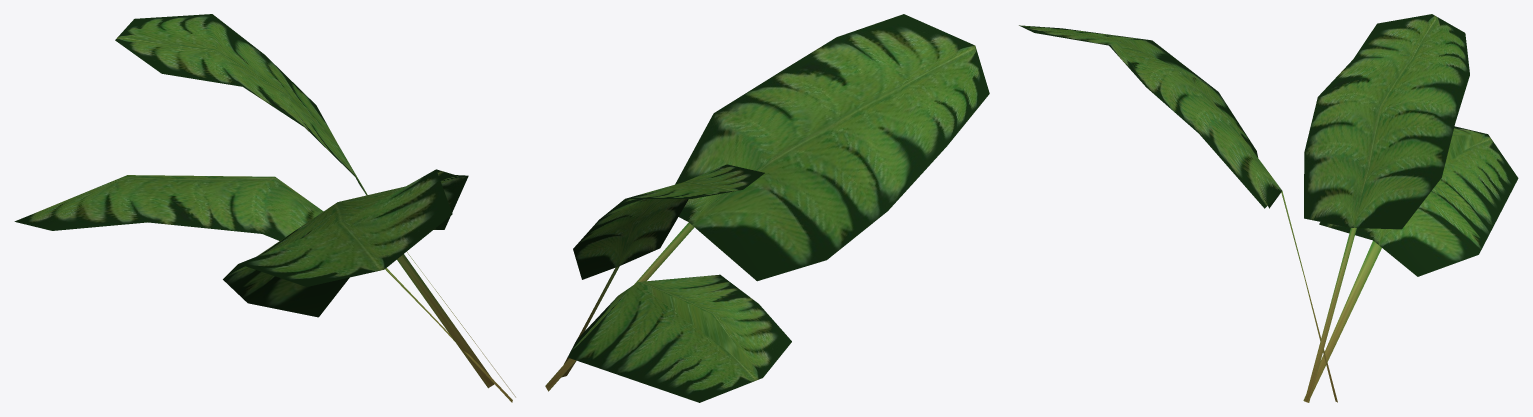
The model's file is bush_leaves.fbx.
The picture shows the model from 3 angles, left to right: view 1: azimuth 30°, elevation 25°; view 2: azimuth 150°, elevation 25°; view 3: azimuth 270°, elevation 25°; orthographic projection. The views are drawn at different scales.
Parts seen in each view (by area): view 1: Leaf_H_01, Leaf_H_04, Leaf_H_02; view 2: Leaf_H_01, Leaf_H_04, Leaf_H_02; view 3: Leaf_H_02, Leaf_H_04, Leaf_H_01.
Boxes of the visible parts, x1=… form: Leaf_H_01: x1=223, y1=169, x2=494, y2=388; Leaf_H_04: x1=14, y1=175, x2=512, y2=402; Leaf_H_02: x1=115, y1=14, x2=515, y2=397; Leaf_H_01: x1=545, y1=14, x2=989, y2=391; Leaf_H_04: x1=561, y1=274, x2=791, y2=402; Leaf_H_02: x1=564, y1=164, x2=764, y2=363; Leaf_H_02: x1=1304, y1=14, x2=1469, y2=402; Leaf_H_04: x1=1303, y1=126, x2=1518, y2=400; Leaf_H_01: x1=1019, y1=25, x2=1337, y2=402.
Size of the model in its own units: 1005 by 961 by 1539.
Materials: 2 (2 with a texture image).
